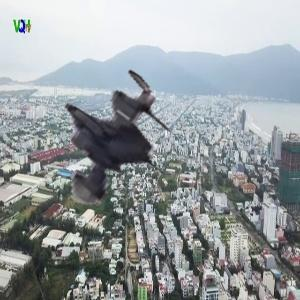drone: (50, 76, 211, 237)
